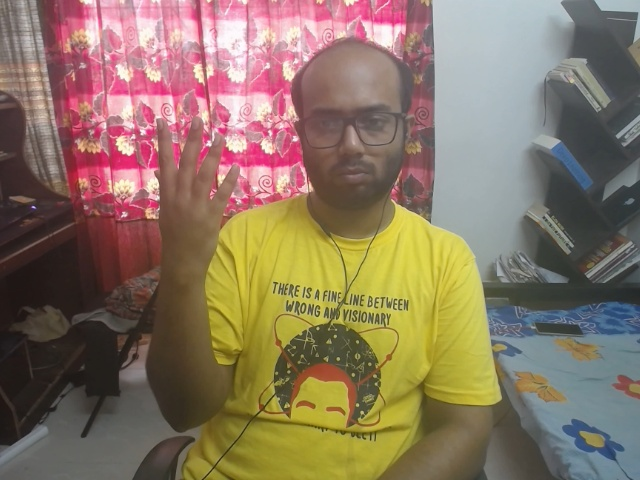five: (124, 100, 268, 270)
